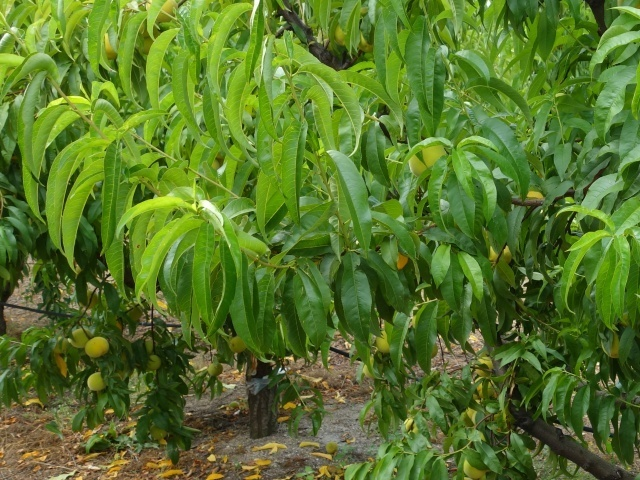peach: (404, 133, 457, 177), (597, 335, 625, 366), (82, 336, 111, 362), (460, 453, 489, 479), (223, 332, 248, 357), (82, 370, 108, 394), (67, 325, 90, 350), (142, 353, 164, 375), (202, 360, 224, 379)
